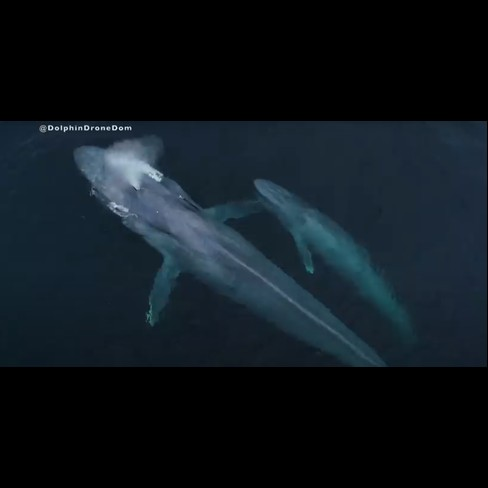bluewhale: (64, 139, 398, 367), (246, 171, 438, 363)
